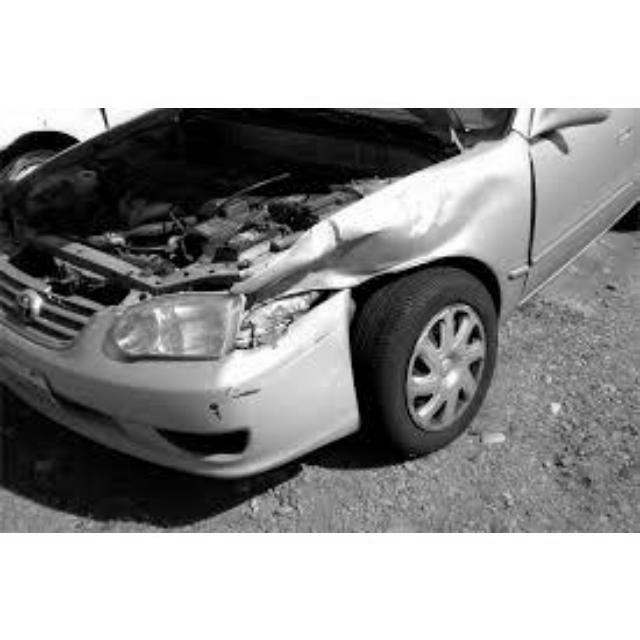Headlight-damage: (92, 268, 303, 377)
fender-dent: (317, 177, 517, 279)
front-bumper-dent: (105, 375, 312, 470)
